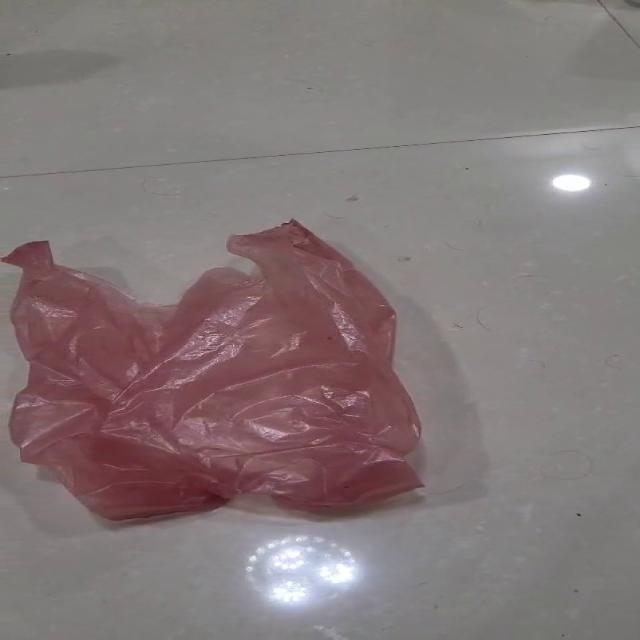plastic: (1, 217, 426, 522)
